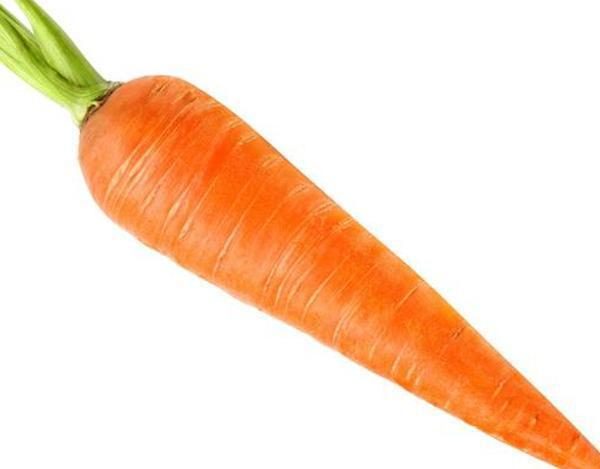carrot: (74, 66, 600, 469)
